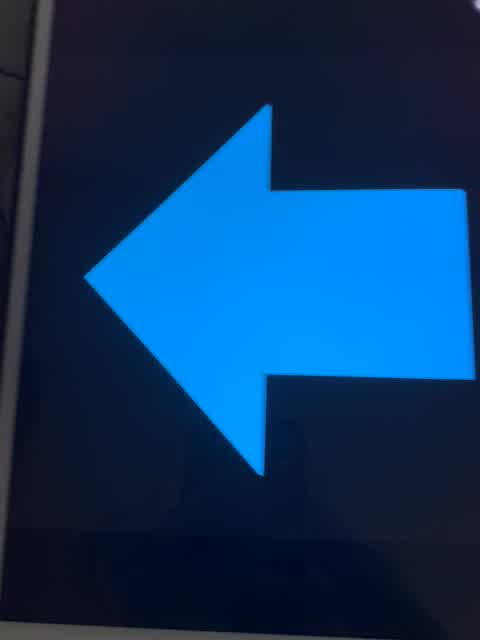left: (66, 88, 480, 492)
